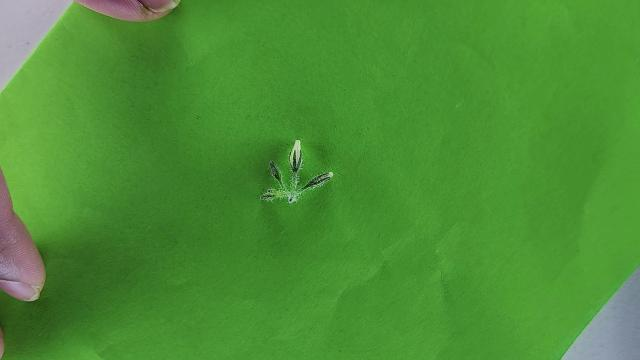Flower Bud: (306, 172, 333, 187), (289, 139, 302, 169), (269, 160, 282, 186), (260, 188, 283, 201)
